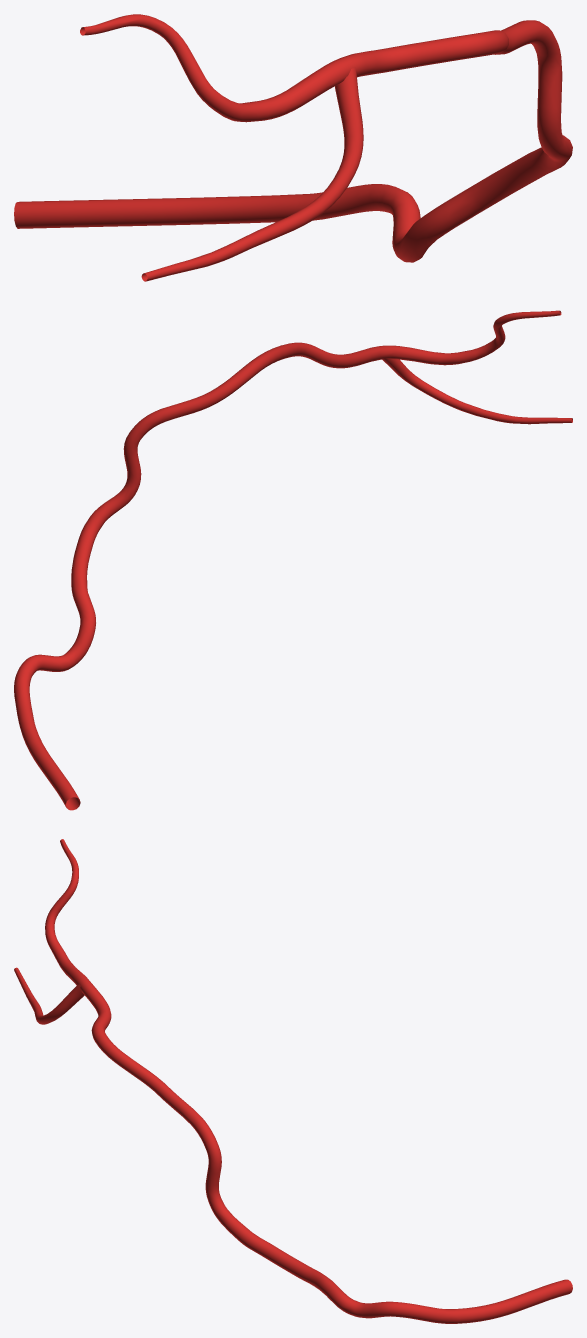
File: circulatorio-lateral-frontobasal-artery-l.glb
The picture shows the model from 3 angles, top to bottom: view 1: azimuth 30°, elevation 25°; view 2: azimuth 150°, elevation 25°; view 3: azimuth 270°, elevation 25°; orthographic projection. The views are drawn at different scales.
Visible parts, largest first — view 1: Lateral frontobasal artery.l; view 2: Lateral frontobasal artery.l; view 3: Lateral frontobasal artery.l.
Boxes of the visible parts, left/top/right/bottom form: Lateral frontobasal artery.l: left=14, top=14, right=572, bottom=281; Lateral frontobasal artery.l: left=14, top=310, right=572, bottom=810; Lateral frontobasal artery.l: left=14, top=839, right=572, bottom=1323.
Size of the model in its own units: 0.0444 by 0.0407 by 0.0591.
